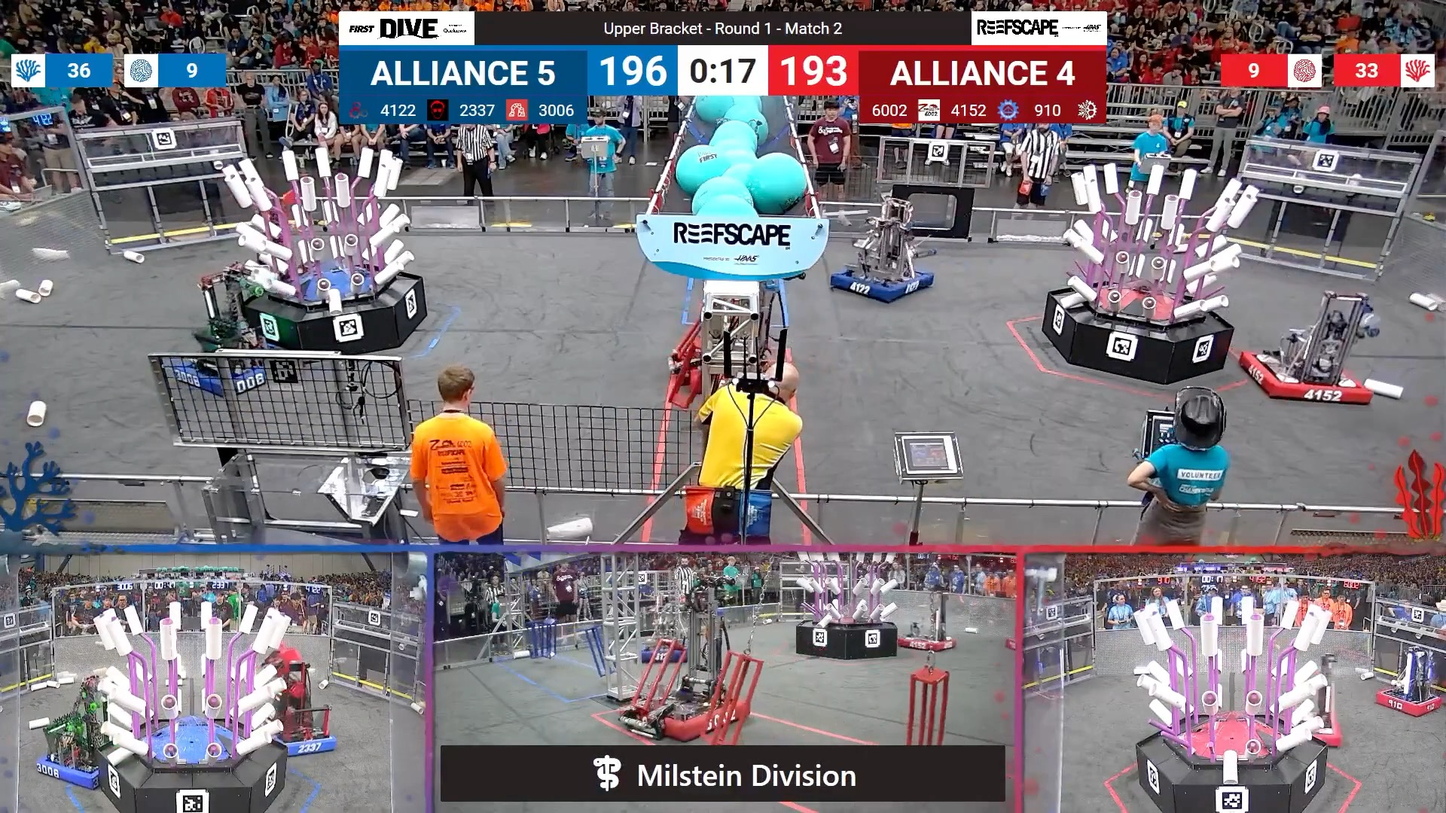bumpers: (1233, 349, 1380, 410), (605, 694, 763, 742), (162, 349, 288, 400), (821, 262, 944, 306), (32, 740, 134, 789), (267, 715, 341, 758), (1274, 706, 1344, 747), (1371, 687, 1445, 718), (898, 631, 956, 652)
